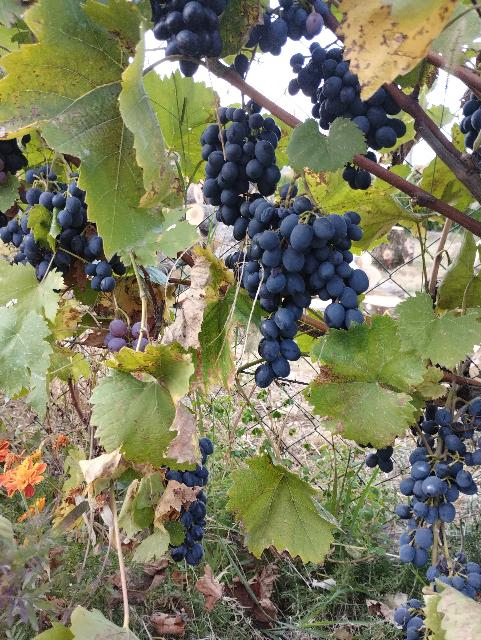grapes: (242, 196, 369, 388), (0, 160, 128, 291), (396, 395, 481, 581), (289, 42, 408, 150), (200, 108, 281, 225)
